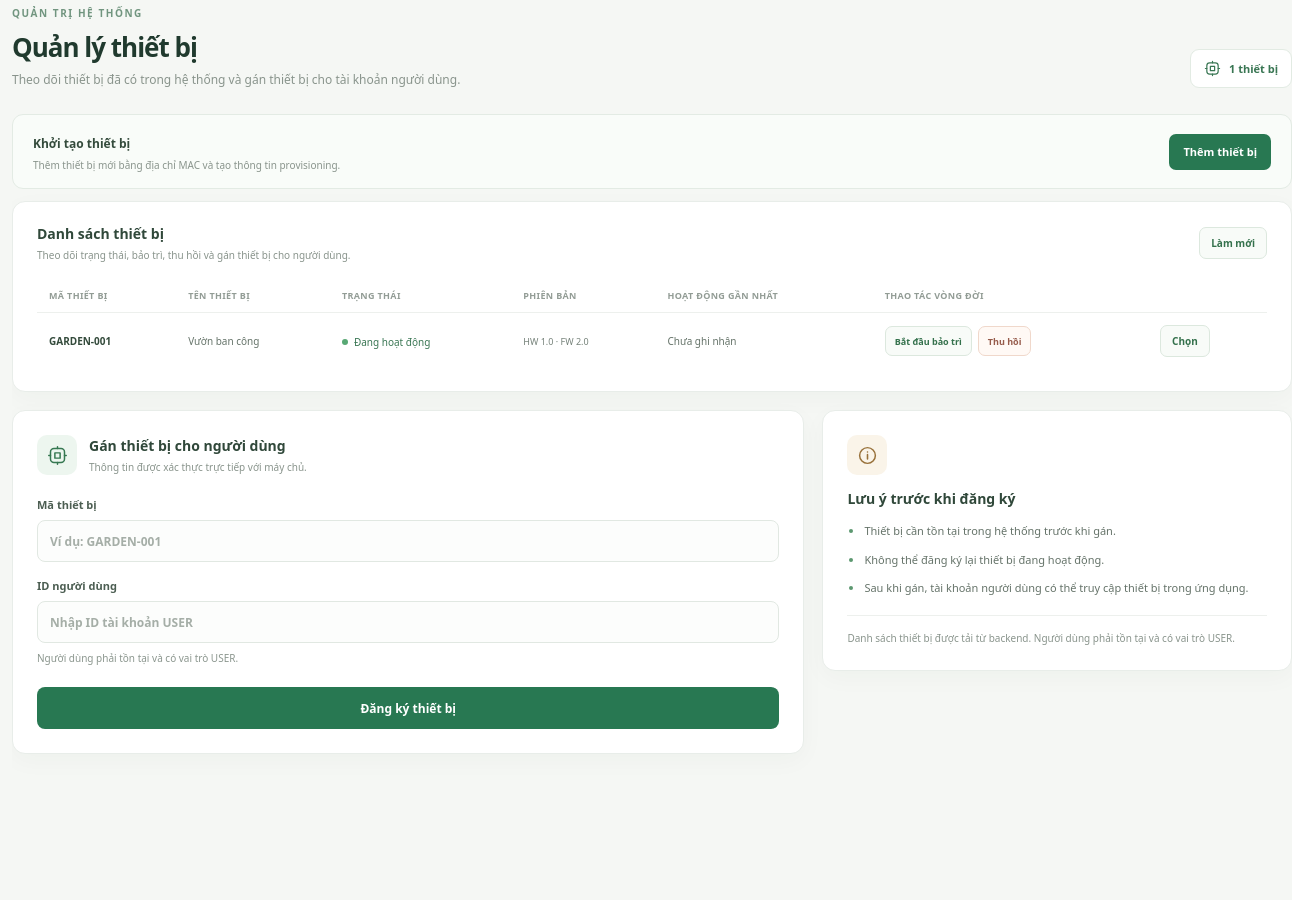
moves a device into and out of maintenance using the admin lifecycle API
Click the button "Bắt đầu bảo trì". click: click(928, 341)
box: [885,326,972,356]
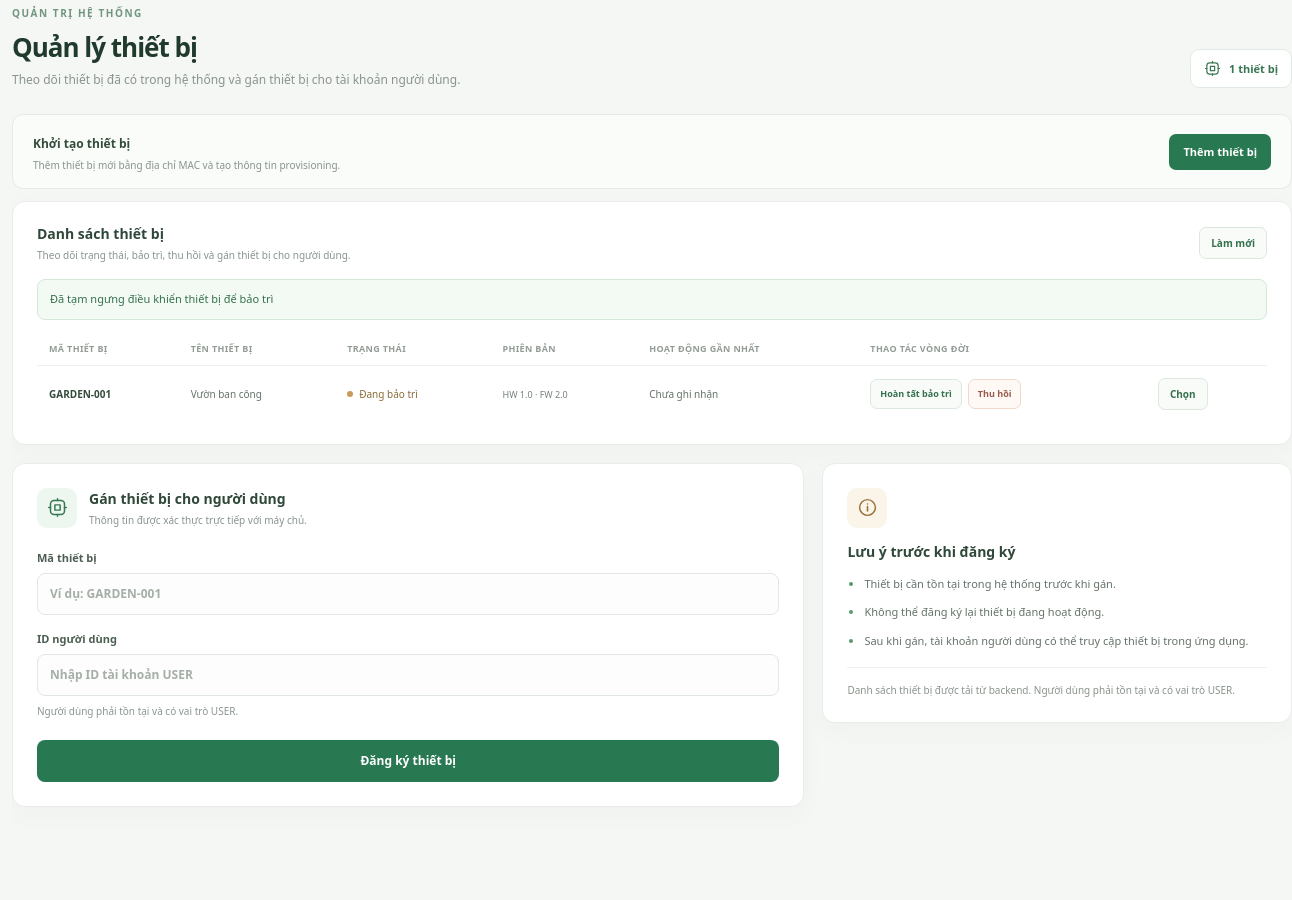
expect the text "Đã tạm ngưng điều khiển thiết bị để bảo trì" is shown: met, box [37,279,1267,320]
expect the button "Hoàn tất bảo trì" is shown: met
Click the button "Hoàn tất bảo trì". click: click(916, 394)
box: [870,378,962,408]
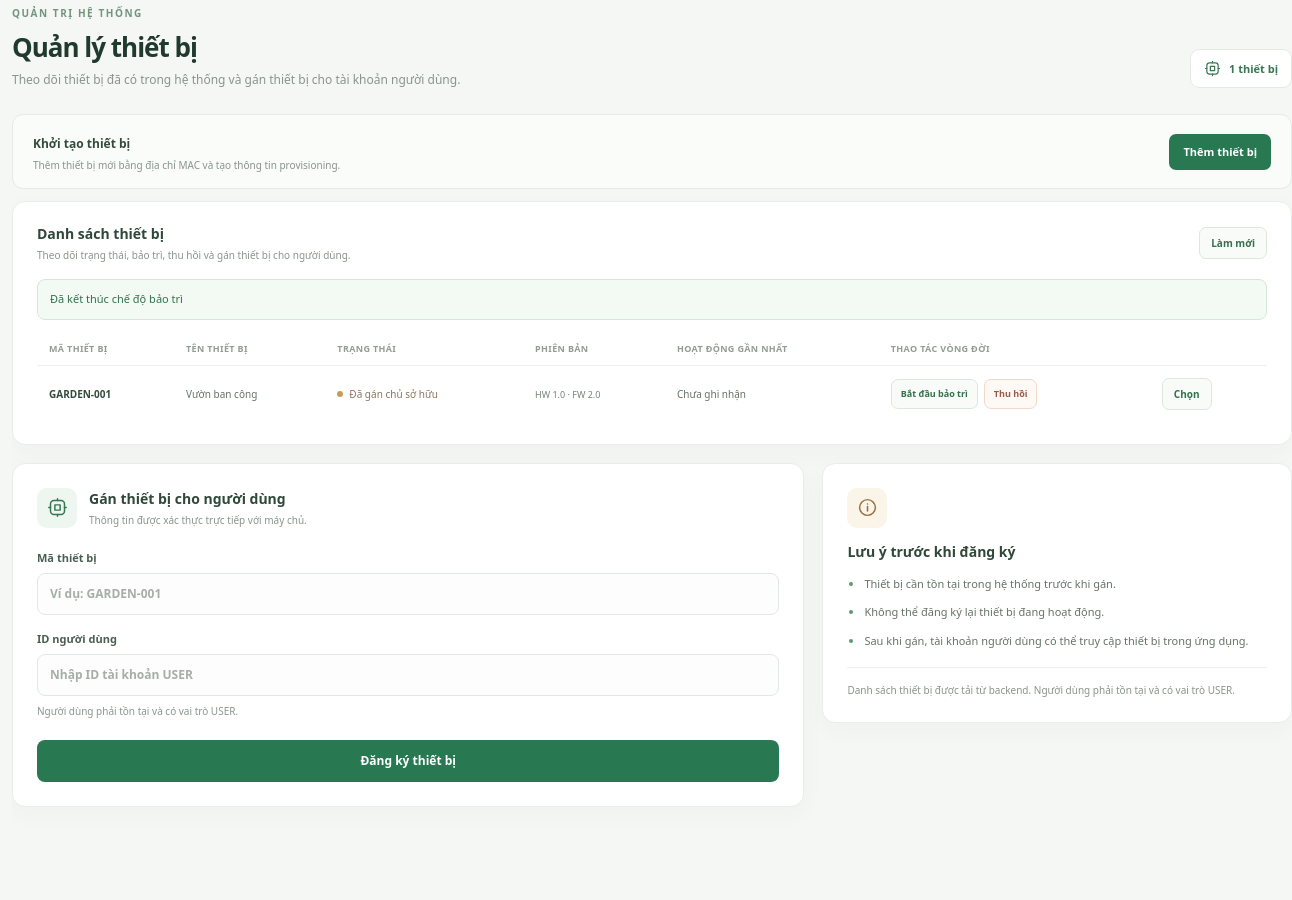
expect the text "Đã kết thúc chế độ bảo trì" is shown: met, box [37,279,1267,320]
expect the text "Đã gán chủ sở hữu" is shown: met, box [337,387,438,401]
